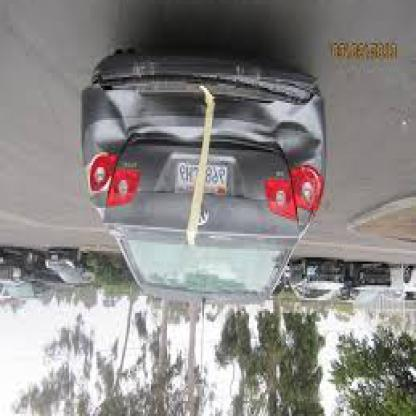dent: (268, 121, 320, 164), (91, 108, 131, 154)
